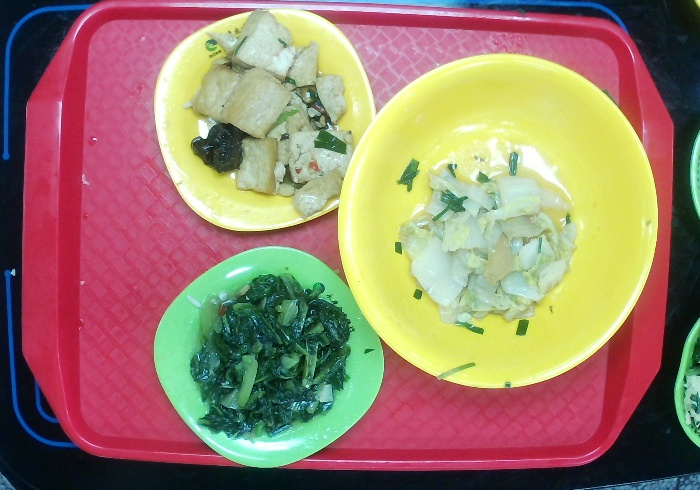YKMZ-Huang_Se_Fang_Die: (149, 1, 379, 237)
YKMZ-Huang_Se_Tang_Wan: (331, 49, 662, 395)
YKMZ-Lv_Se_Fang_Die: (148, 242, 389, 473)
